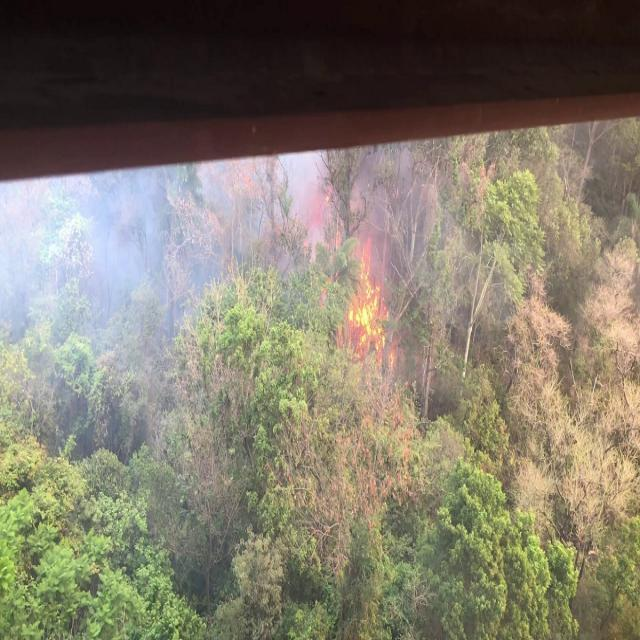Fire: (354, 242, 396, 354)
